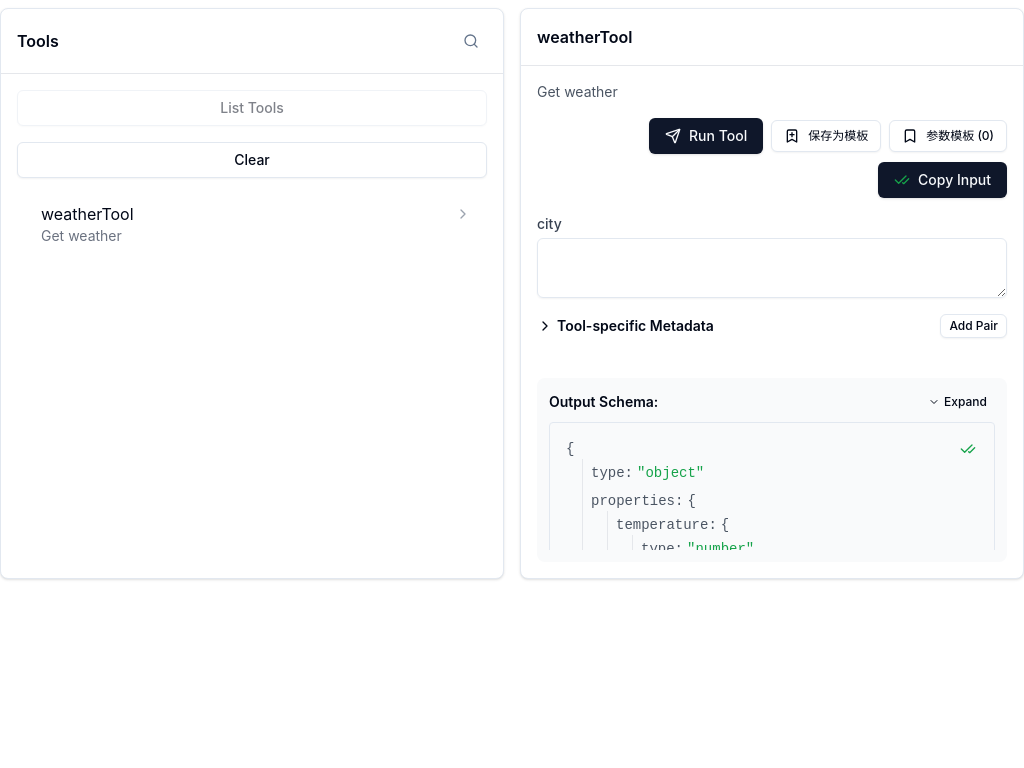
Scenario: ToolsTab › Output Schema Display › should toggle output schema expansion
Click to expand
Click the button "Expand": (958,402) [920,390,995,414]
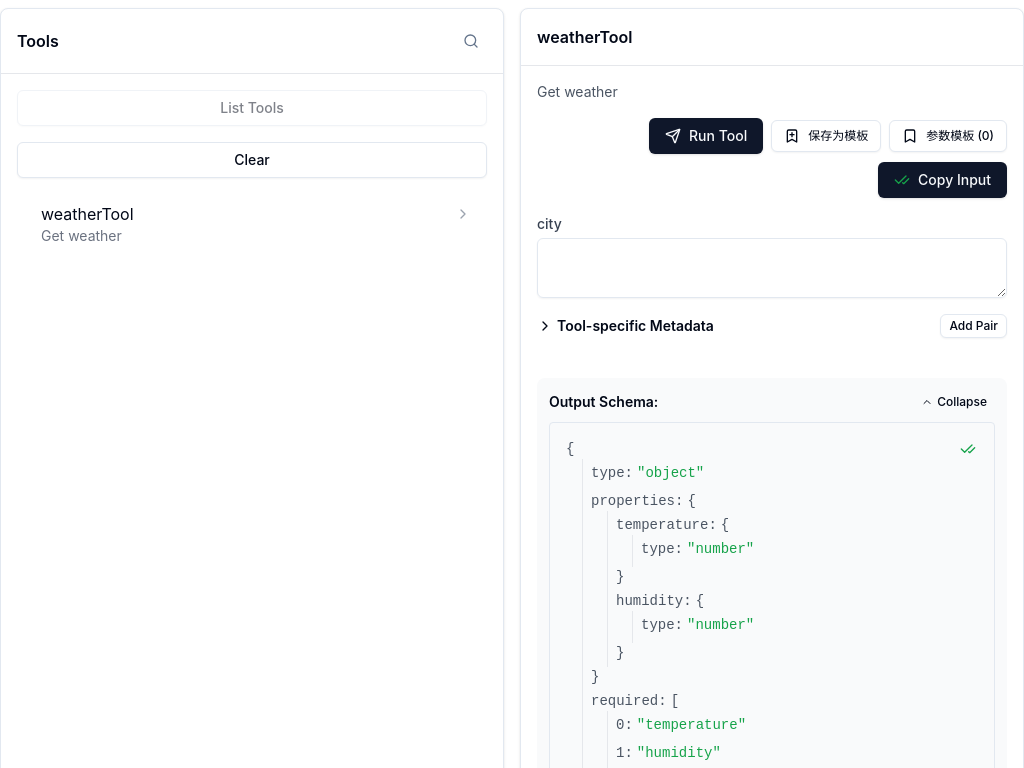
Expected: the button "Collapse" is shown
Click to collapse
Click the button "Collapse": (954,402) [913,390,995,414]
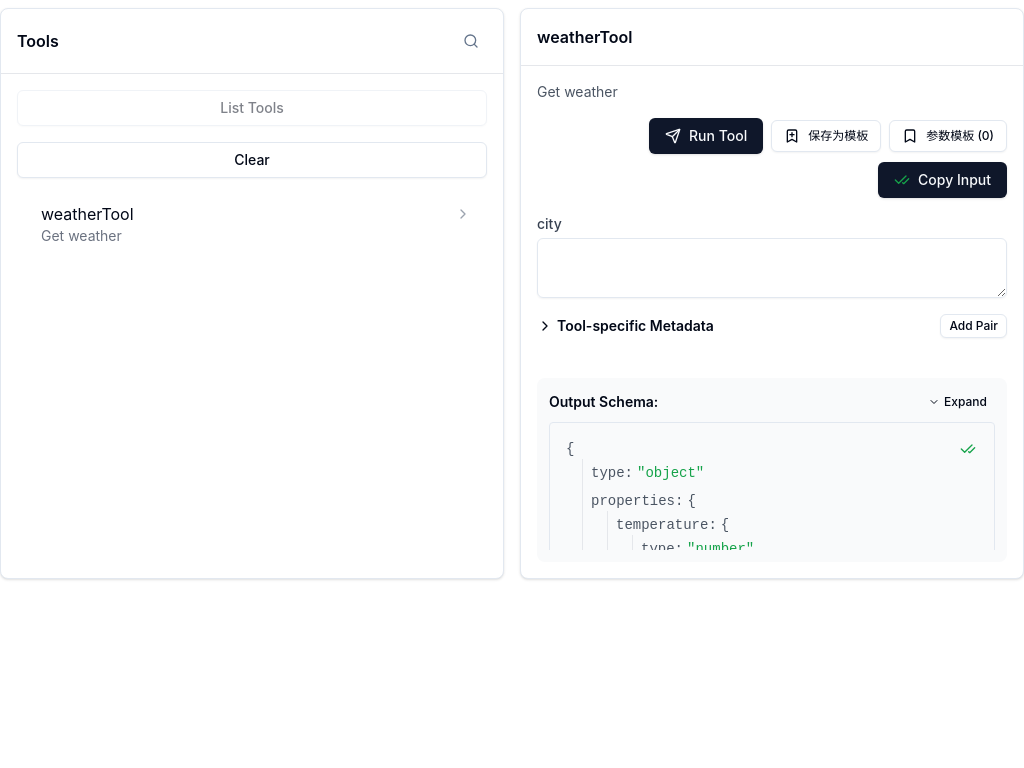
Expected: the button "Expand" is shown, [920,390,995,414]
